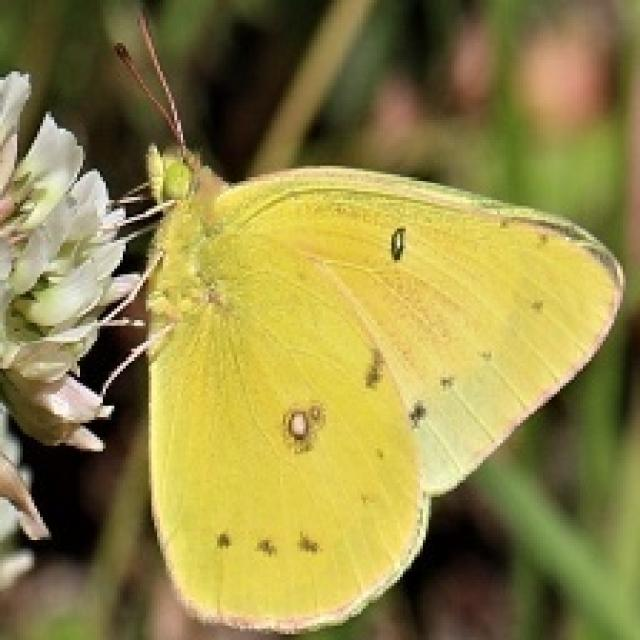butterfly: (89, 9, 626, 634)
